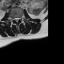CCS_normal: (16, 15, 17, 24)
LFS_normal: (19, 15, 21, 21)
LLS_normal: (17, 16, 19, 22)
RFS_normal: (12, 16, 14, 22)
RLS_normal: (14, 16, 16, 22)
